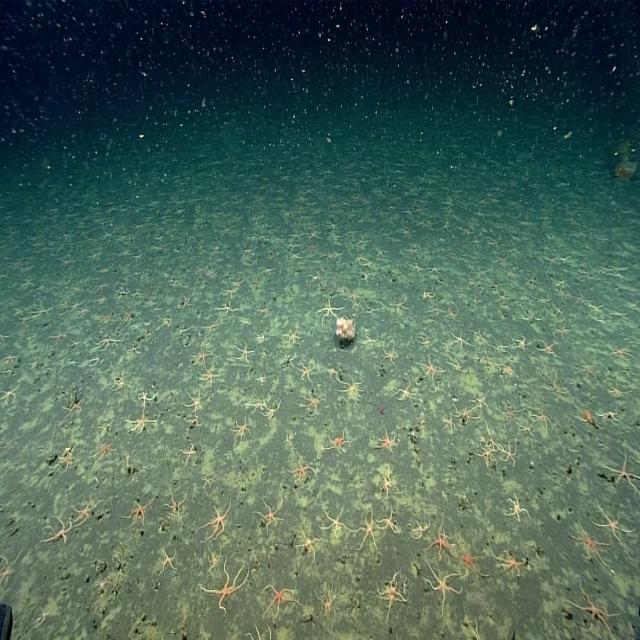brittle-stars: (562, 573, 615, 637), (198, 550, 250, 610), (570, 516, 614, 572), (422, 561, 465, 618), (596, 439, 640, 493), (592, 498, 635, 550), (369, 558, 405, 610), (453, 538, 492, 584), (258, 572, 299, 615), (426, 517, 458, 565), (490, 544, 529, 583), (198, 497, 233, 540), (250, 492, 284, 534), (284, 450, 317, 487), (414, 351, 448, 386), (317, 497, 348, 534), (71, 490, 102, 526), (119, 499, 154, 530), (291, 515, 316, 558), (502, 491, 533, 525), (41, 515, 75, 546), (472, 434, 499, 472), (368, 496, 398, 530), (333, 376, 367, 406), (243, 611, 277, 640), (122, 402, 156, 430), (498, 398, 526, 432), (404, 511, 434, 542), (323, 424, 352, 456), (312, 300, 345, 328), (310, 570, 332, 608), (496, 436, 519, 472), (228, 411, 252, 444), (454, 401, 482, 428), (541, 373, 569, 400), (533, 334, 562, 360), (295, 387, 323, 413), (374, 425, 399, 454), (91, 433, 118, 459), (392, 374, 417, 402), (155, 546, 179, 575), (164, 489, 188, 518), (530, 407, 556, 433), (186, 341, 213, 366), (447, 329, 475, 353), (60, 390, 87, 414), (571, 406, 598, 430), (56, 440, 76, 472), (468, 385, 493, 410), (355, 326, 379, 352), (199, 312, 223, 338), (258, 393, 282, 418), (211, 294, 235, 319), (385, 292, 410, 315), (180, 386, 202, 412), (174, 436, 196, 461), (377, 340, 399, 365), (194, 362, 216, 387), (230, 337, 251, 363), (342, 287, 362, 314), (90, 332, 120, 349), (594, 406, 622, 424), (0, 379, 20, 404), (215, 277, 241, 296), (147, 310, 174, 328), (374, 463, 389, 494), (241, 392, 263, 413), (414, 327, 434, 350), (304, 266, 322, 291), (496, 362, 518, 382), (486, 335, 506, 357), (32, 298, 54, 318), (294, 357, 312, 381), (418, 284, 442, 302), (135, 385, 155, 406), (505, 332, 526, 352), (444, 354, 465, 374), (438, 413, 457, 435), (117, 305, 135, 328), (44, 326, 68, 343), (469, 328, 489, 348), (70, 302, 91, 320), (182, 408, 202, 426), (442, 301, 460, 321), (275, 351, 293, 369), (196, 466, 212, 486), (517, 422, 535, 439), (110, 372, 127, 390), (283, 325, 298, 344), (129, 341, 143, 357)
